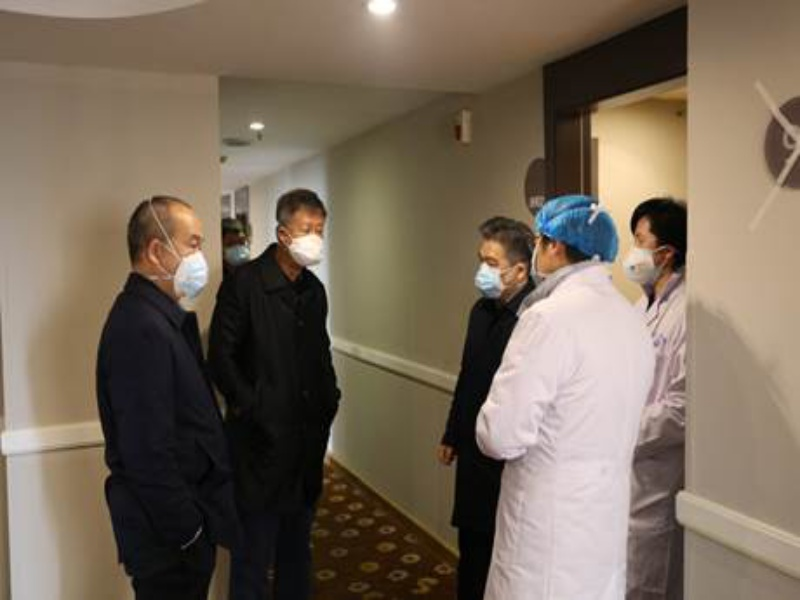ManaoArotava: (137, 198, 220, 305), (272, 183, 343, 287), (616, 200, 678, 308), (466, 212, 530, 310)
